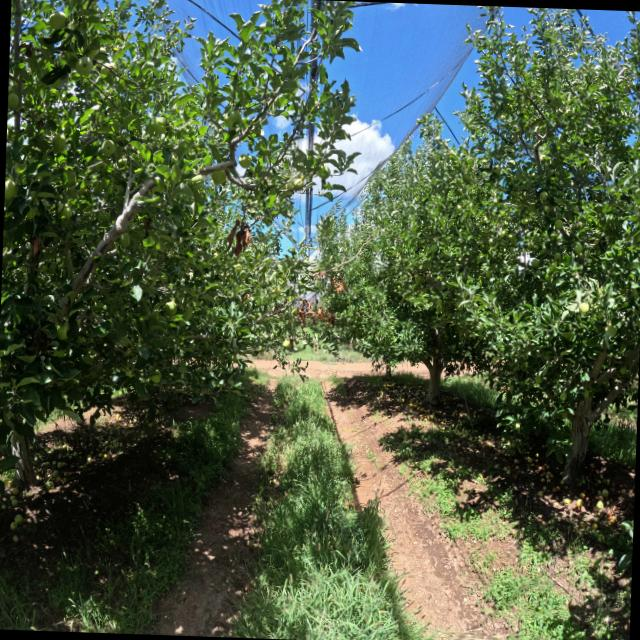-FireBlight-: (298, 295, 338, 328), (222, 215, 254, 256), (330, 274, 347, 296), (307, 268, 327, 284)
